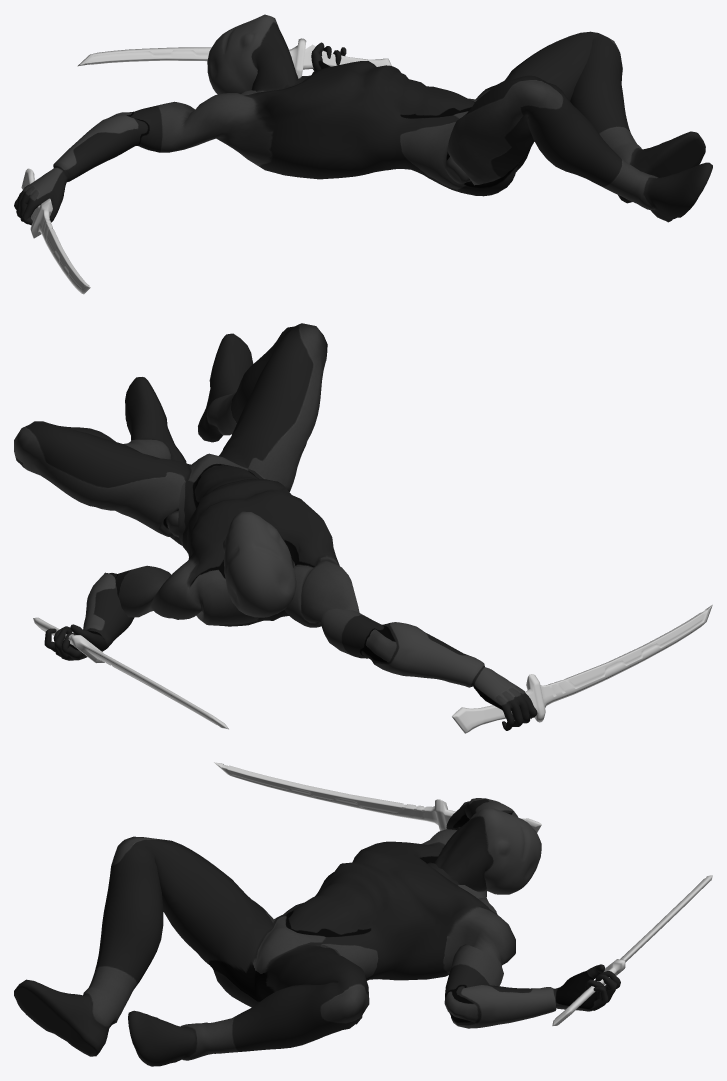
The picture shows the model from 3 angles, top to bottom: view 1: azimuth 30°, elevation 25°; view 2: azimuth 150°, elevation 25°; view 3: azimuth 270°, elevation 25°; orthographic projection. The views are drawn at different scales.
Visible parts, largest first — view 1: Cyborg_Ninja_Killer, Sword_l, Sword_l001; view 2: Cyborg_Ninja_Killer, Sword_l001, Sword_l; view 3: Cyborg_Ninja_Killer, Sword_l001, Sword_l.
Part boxes in pixels (x1=…): Cyborg_Ninja_Killer: x1=14, y1=14, x2=712, y2=224; Sword_l: x1=77, y1=38, x2=391, y2=78; Sword_l001: x1=21, y1=168, x2=90, y2=294; Cyborg_Ninja_Killer: x1=14, y1=323, x2=537, y2=730; Sword_l001: x1=452, y1=604, x2=712, y2=733; Sword_l: x1=33, y1=617, x2=228, y2=729; Cyborg_Ninja_Killer: x1=14, y1=798, x2=620, y2=1066; Sword_l001: x1=214, y1=762, x2=541, y2=832; Sword_l: x1=552, y1=875, x2=712, y2=1026.
Size of the model in its own units: 188 by 52.76 by 180.
